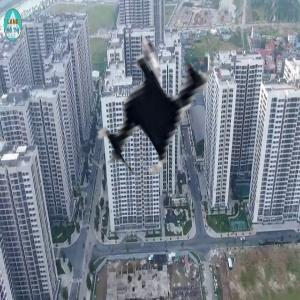drone: (52, 10, 246, 204)
